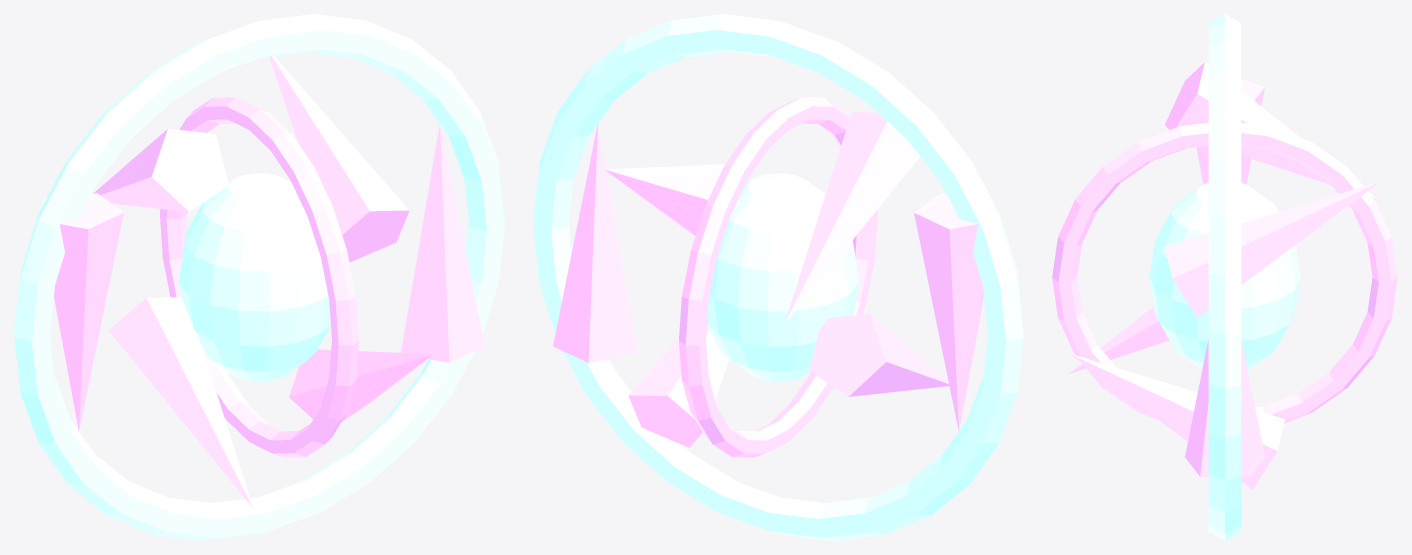
File: vfx_guardian_impact_v0_7.glb
3 renders of one model, left to right at view 1: azimuth 30°, elevation 25°; view 2: azimuth 150°, elevation 25°; view 3: azimuth 270°, elevation 25°, orthographic. The views are drawn at different scales.
Visible parts, largest first — view 1: presentation_guardian_impact_ring_a, presentation_guardian_impact_core, presentation_guardian_impact_ring_b, presentation_guardian_impact_ray_0, presentation_guardian_impact_ray_4, presentation_guardian_impact_ray_1, presentation_guardian_impact_ray_3, presentation_guardian_impact_ray_2, presentation_guardian_impact_ray_5; view 2: presentation_guardian_impact_ring_a, presentation_guardian_impact_core, presentation_guardian_impact_ring_b, presentation_guardian_impact_ray_0, presentation_guardian_impact_ray_2, presentation_guardian_impact_ray_3, presentation_guardian_impact_ray_4, presentation_guardian_impact_ray_5, presentation_guardian_impact_ray_1; view 3: presentation_guardian_impact_ring_b, presentation_guardian_impact_ring_a, presentation_guardian_impact_core, presentation_guardian_impact_ray_1, presentation_guardian_impact_ray_5, presentation_guardian_impact_ray_2, presentation_guardian_impact_ray_0, presentation_guardian_impact_ray_4, presentation_guardian_impact_ray_3.
Boxes of the visible parts, x1,y1,x2,y2 form: presentation_guardian_impact_ring_a: [14, 14, 504, 540]; presentation_guardian_impact_core: [178, 173, 330, 381]; presentation_guardian_impact_ring_b: [160, 97, 358, 457]; presentation_guardian_impact_ray_0: [401, 124, 484, 362]; presentation_guardian_impact_ray_4: [108, 297, 253, 508]; presentation_guardian_impact_ray_1: [269, 56, 409, 262]; presentation_guardian_impact_ray_3: [44, 193, 123, 431]; presentation_guardian_impact_ray_2: [93, 128, 228, 211]; presentation_guardian_impact_ray_5: [289, 349, 433, 421]; presentation_guardian_impact_ring_a: [533, 14, 1023, 540]; presentation_guardian_impact_core: [707, 173, 859, 381]; presentation_guardian_impact_ring_b: [679, 97, 877, 457]; presentation_guardian_impact_ray_0: [553, 124, 637, 362]; presentation_guardian_impact_ray_2: [784, 112, 920, 323]; presentation_guardian_impact_ray_3: [914, 193, 993, 431]; presentation_guardian_impact_ray_4: [809, 313, 949, 396]; presentation_guardian_impact_ray_5: [628, 326, 729, 447]; presentation_guardian_impact_ray_1: [604, 164, 725, 236]; presentation_guardian_impact_ring_b: [1052, 123, 1397, 423]; presentation_guardian_impact_ring_a: [1208, 14, 1241, 540]; presentation_guardian_impact_core: [1149, 183, 1300, 368]; presentation_guardian_impact_ray_1: [1165, 181, 1381, 317]; presentation_guardian_impact_ray_5: [1068, 353, 1284, 489]; presentation_guardian_impact_ray_2: [1165, 62, 1381, 201]; presentation_guardian_impact_ray_0: [1185, 339, 1264, 476]; presentation_guardian_impact_ray_4: [1068, 306, 1169, 373]; presentation_guardian_impact_ray_3: [1196, 79, 1264, 184].
Bounding box in the file's own units: 1.25 × 1.25 × 0.82.
